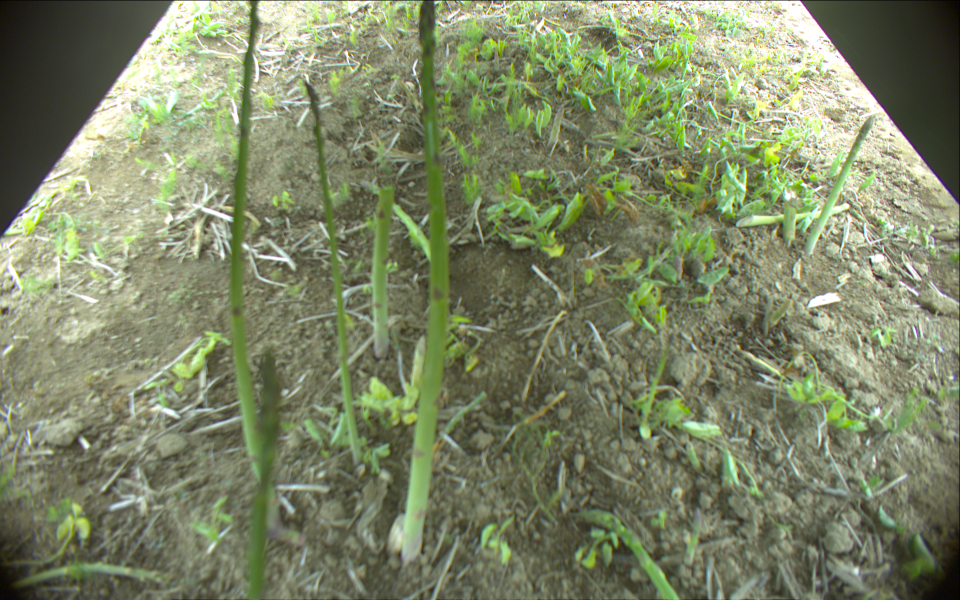aspa: (399, 1, 448, 563), (305, 77, 363, 467), (230, 1, 261, 479), (805, 116, 875, 253), (578, 510, 681, 600), (248, 353, 283, 600), (10, 562, 162, 595), (373, 183, 394, 359), (735, 203, 851, 227), (392, 202, 431, 260), (682, 508, 704, 566), (545, 103, 565, 148), (781, 200, 796, 239)
